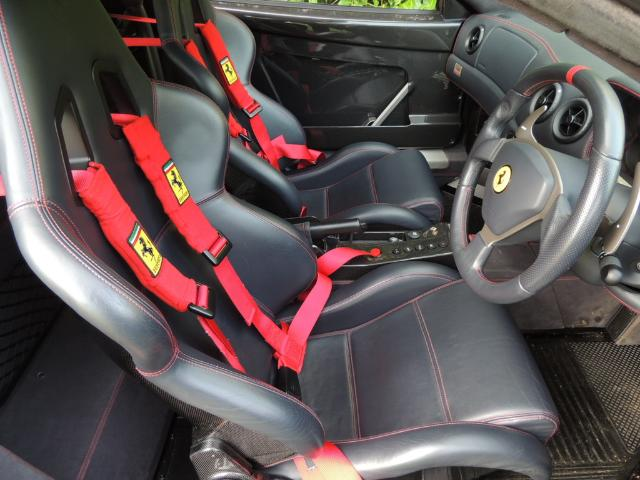Seatbelt: (116, 111, 377, 407), (110, 14, 326, 214), (70, 158, 248, 373), (192, 18, 330, 170)
